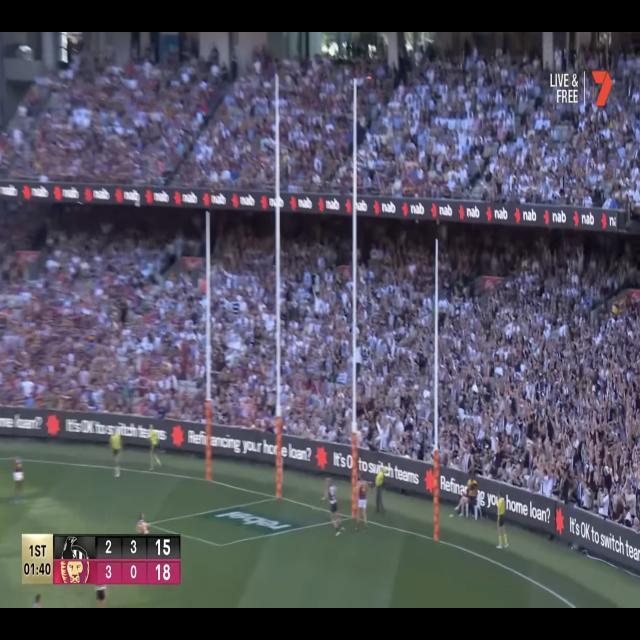crowd: (3, 48, 640, 201), (441, 223, 639, 525), (1, 195, 204, 418), (358, 220, 435, 459), (283, 214, 353, 449), (213, 209, 276, 427)
